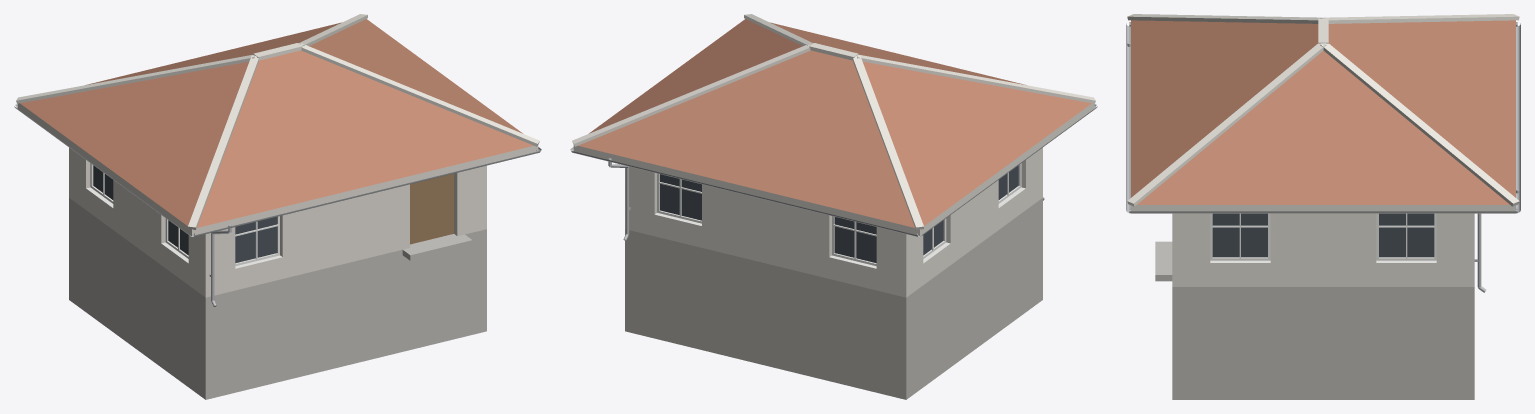
Rendered from tropical_hipped_1_s.glb.
3 renders of one model, left to right at view 1: azimuth 30°, elevation 25°; view 2: azimuth 150°, elevation 25°; view 3: azimuth 270°, elevation 25°, orthographic. The views are drawn at different scales.
Parts seen in each view (by area): view 1: tropical_hipped_1_s; view 2: tropical_hipped_1_s; view 3: tropical_hipped_1_s.
Boxes of the visible parts, box(x1,y1,x2,y2) form: tropical_hipped_1_s: box(14, 14, 541, 399); tropical_hipped_1_s: box(570, 14, 1097, 399); tropical_hipped_1_s: box(1126, 14, 1520, 399).
Size of the model in its own units: 11.89 by 8.57 by 10.45.
